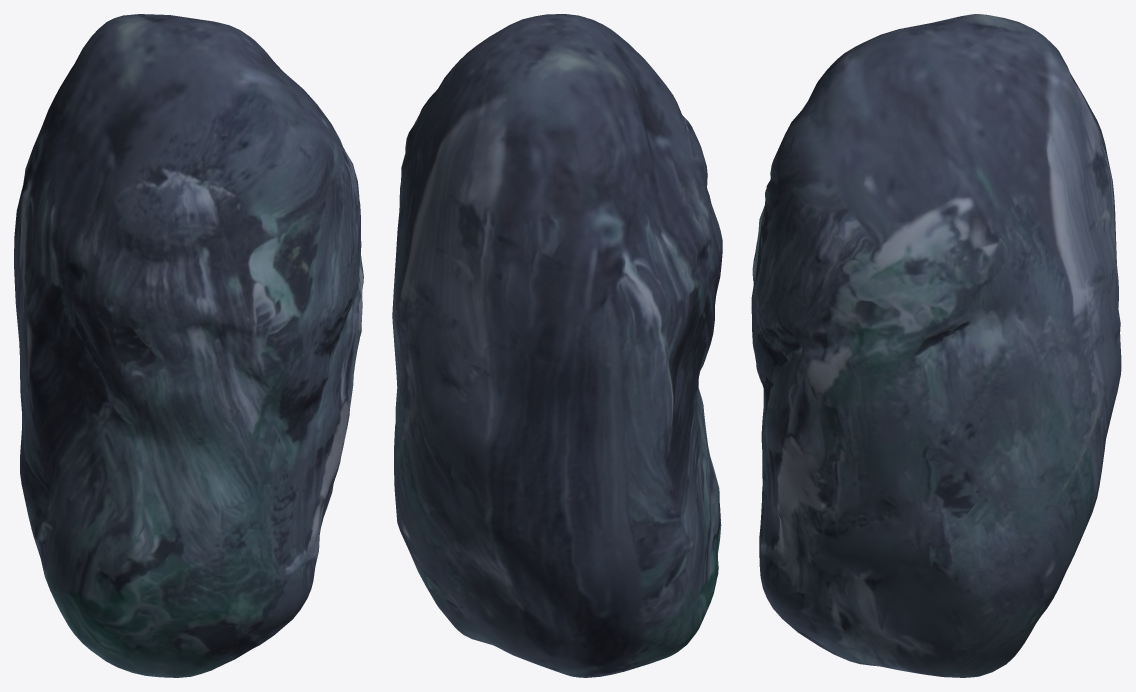
Rendered from Malte_SmallRock3.glb.
The picture shows the model from 3 angles, left to right: view 1: azimuth 30°, elevation 25°; view 2: azimuth 150°, elevation 25°; view 3: azimuth 270°, elevation 25°; orthographic projection. The views are drawn at different scales.
Parts seen in each view (by area): view 1: Malte_SmallRock3; view 2: Malte_SmallRock3; view 3: Malte_SmallRock3.
Part boxes in pixels (x1,y1,x2,y2): Malte_SmallRock3: (14, 14, 363, 677); Malte_SmallRock3: (392, 14, 722, 677); Malte_SmallRock3: (751, 14, 1121, 677).
Size of the model in its own units: 0.4329 by 0.9087 by 0.4702.
Materials: 1 (1 with a texture image).
